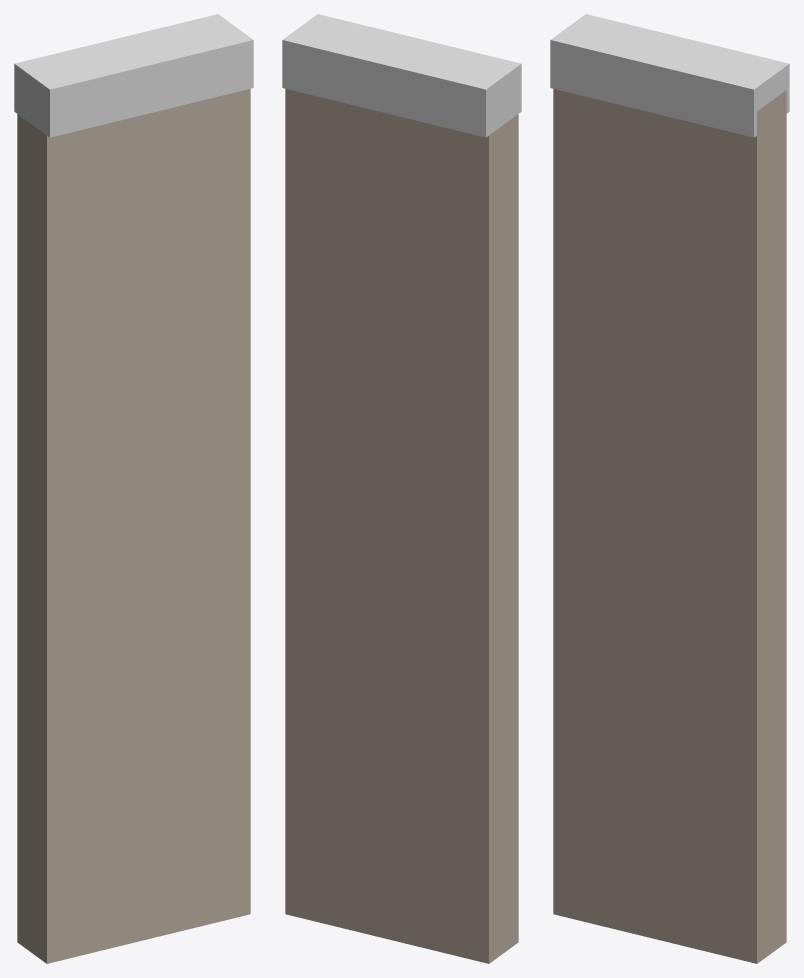
Rendered from Foundation_Wall_1_Short.fbx.
The picture shows the model from 3 angles, left to right: view 1: azimuth 30°, elevation 25°; view 2: azimuth 150°, elevation 25°; view 3: azimuth 330°, elevation 25°; orthographic projection.
Visible parts, largest first — view 1: Foundation_Wall_1_Short_LOD0; view 2: Foundation_Wall_1_Short_LOD0; view 3: Foundation_Wall_1_Short_LOD0.
Boxes of the visible parts, <box> form: Foundation_Wall_1_Short_LOD0: <box>14,14,253,963</box>; Foundation_Wall_1_Short_LOD0: <box>282,14,521,963</box>; Foundation_Wall_1_Short_LOD0: <box>550,14,789,963</box>.
Size of the model in its own units: 100 by 411 by 30.18.
